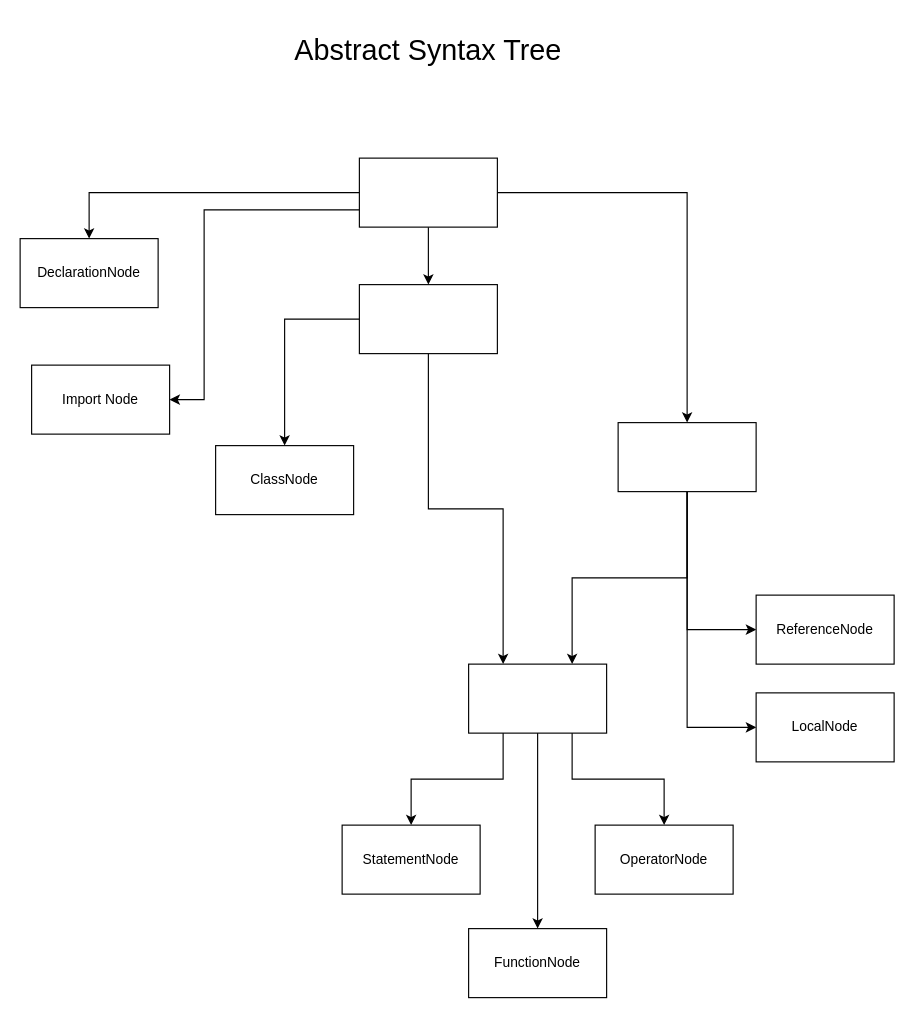
The diagram is 914 pixels wide and 1018 high, and some of its shapes have lost their labels. Here are the shapes that lost their labels. From the top down, the centre of each, then its label:
At point 427,192: "INode".
At point 427,318: "ListNode".
At point 686,456: "IExpressionNode".
At point 537,698: "IExpressionListNode".
